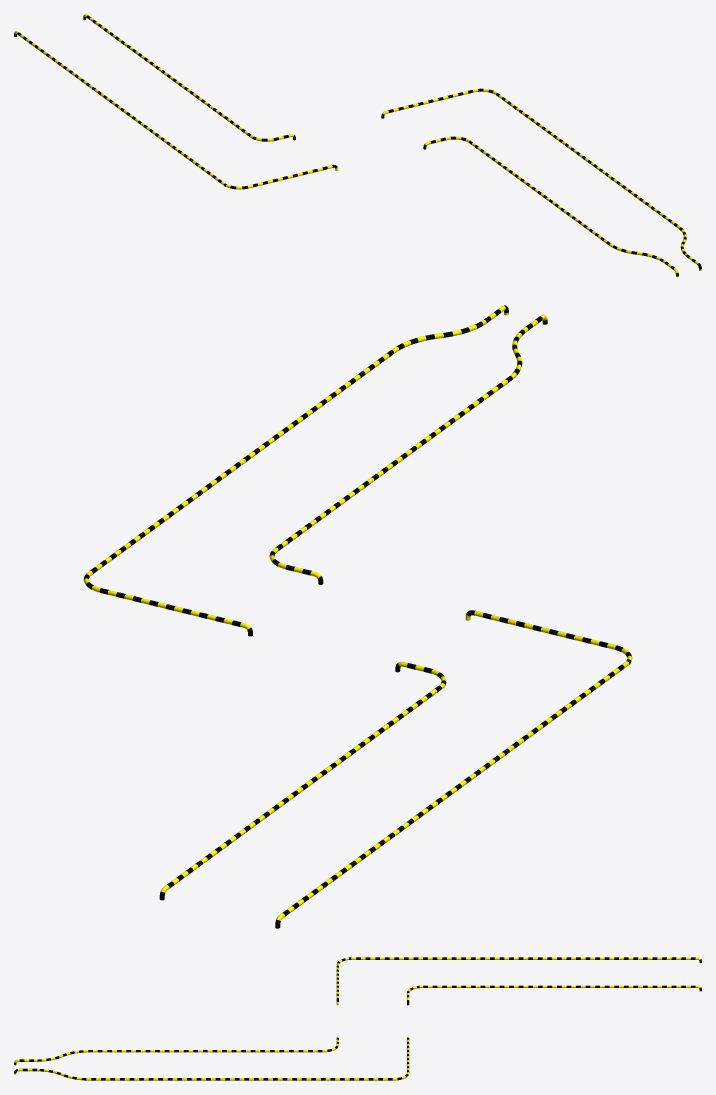
Rendered from rod_5_2.FBX.
3 views of the same model, one above another, from view 1: azimuth 30°, elevation 25°; view 2: azimuth 150°, elevation 25°; view 3: azimuth 270°, elevation 25° (orthographic). The views are drawn at different scales.
Visible parts, largest first — view 1: Shape006; view 2: Shape006; view 3: Shape006.
Part boxes in pixels (box(x1,y1,x2,y2)): Shape006: box(14, 14, 701, 276); Shape006: box(83, 305, 632, 928); Shape006: box(14, 957, 701, 1080).
Bounding box in the file's own units: 2341 × 47.41 × 5587.
